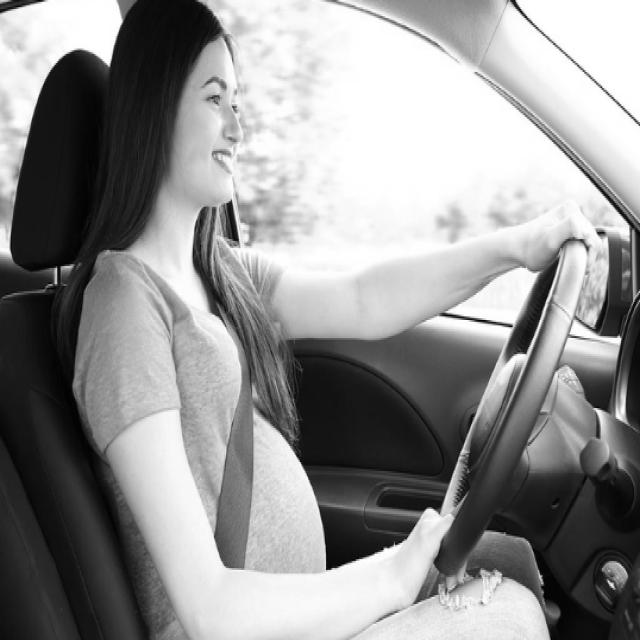Seatbelt: (193, 278, 268, 576)
